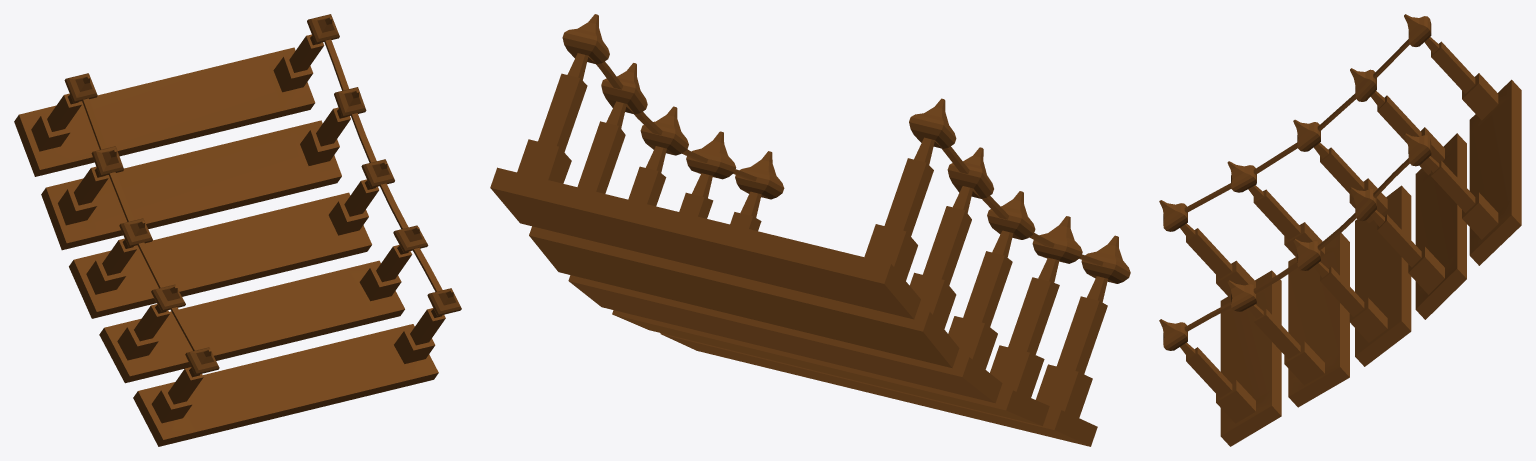
The model's file is Bridge1.fbx.
3 views of the same model, side by side, from view 1: azimuth 30°, elevation 25°; view 2: azimuth 150°, elevation 25°; view 3: azimuth 270°, elevation 25° (orthographic). The views are drawn at different scales.
Parts seen in each view (by area): view 1: Ramp2blocks; view 2: Ramp2blocks; view 3: Ramp2blocks.
Part boxes in pixels (bbox=[...]): Ramp2blocks: bbox=[14, 14, 461, 446]; Ramp2blocks: bbox=[490, 14, 1130, 446]; Ramp2blocks: bbox=[1159, 14, 1521, 446].
Bounding box in the file's own units: 141 × 149 × 160.
